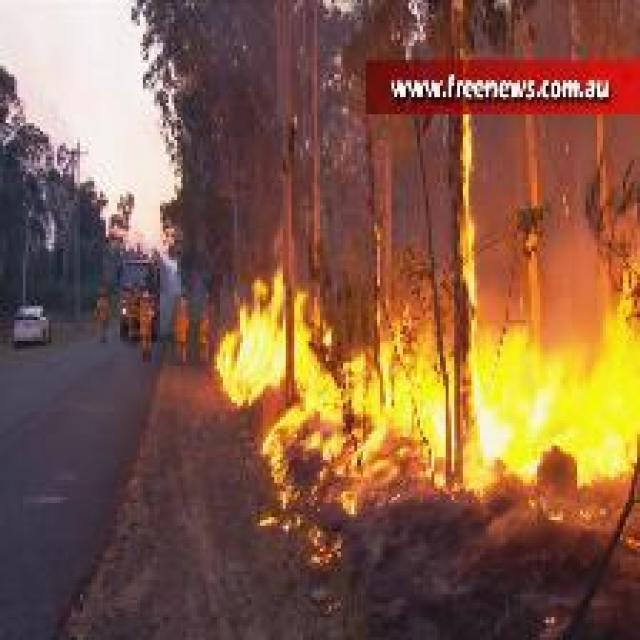Fire: (211, 114, 640, 563)
